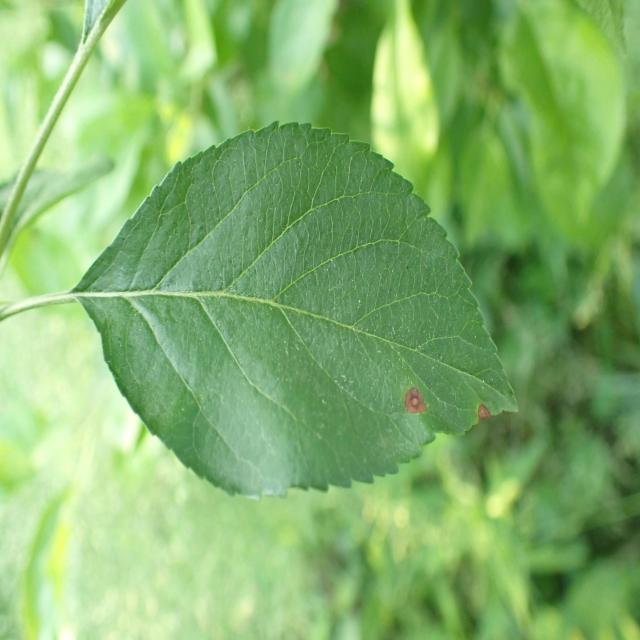frog-eye-leaf-spot: (68, 122, 521, 501)
